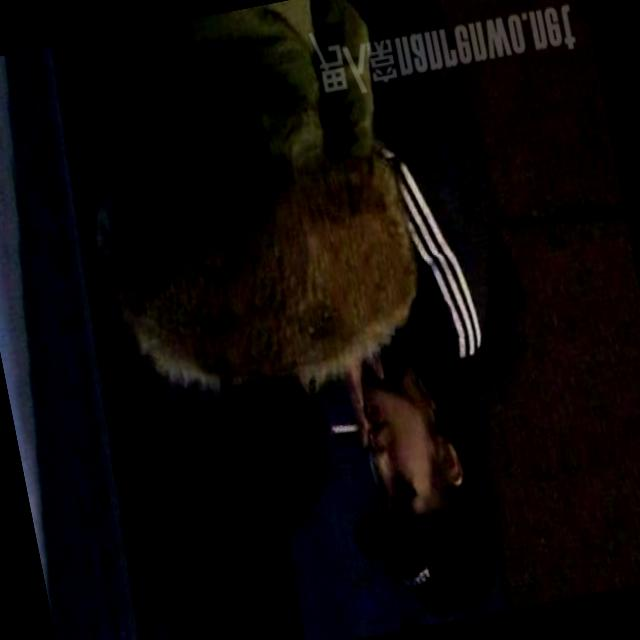cigarette: (329, 418, 364, 438)
